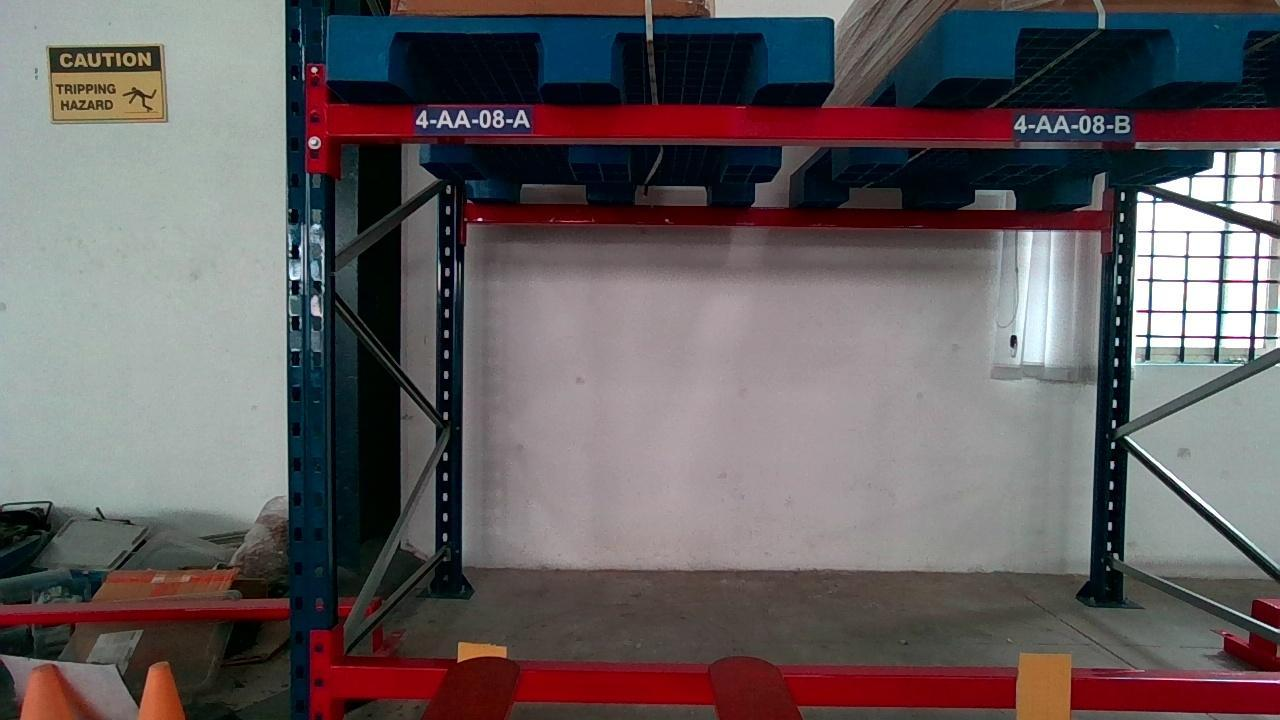h_rack: (333, 666, 1278, 711), (319, 105, 1280, 140)
orange_strip: (1015, 654, 1071, 720)
small_pallet: (327, 16, 831, 80), (943, 12, 1279, 79)
